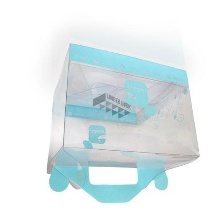plastic_box: (37, 35, 205, 210)
